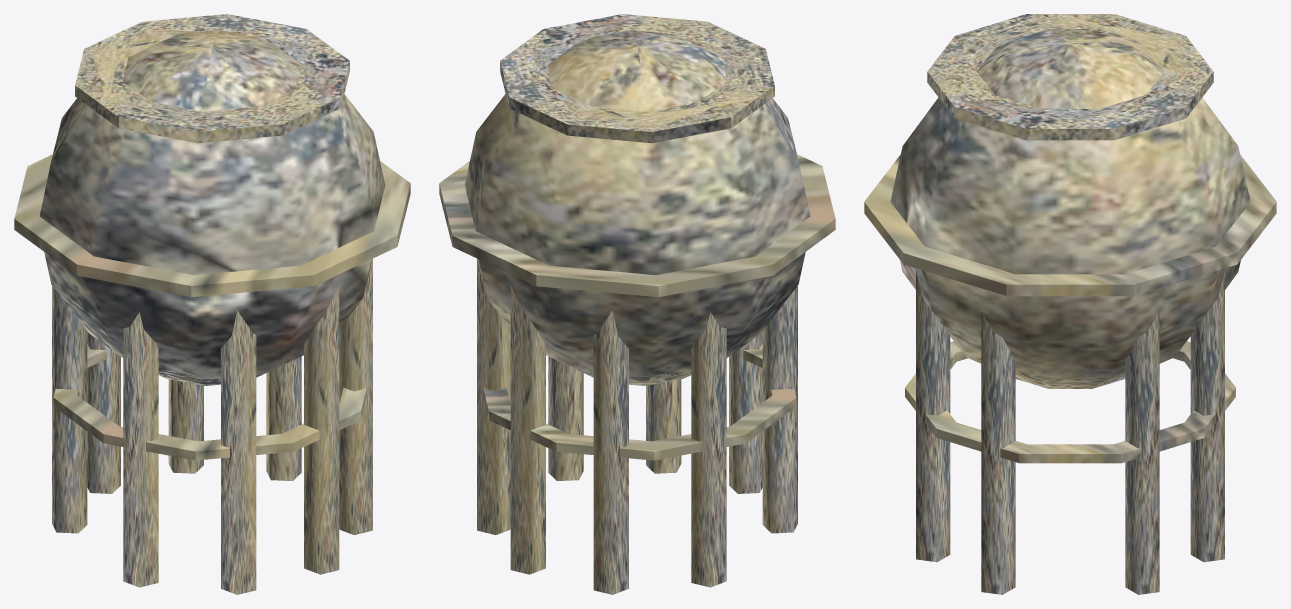
Rendered from OilTanker.glb.
3 views of the same model, side by side, from view 1: azimuth 30°, elevation 25°; view 2: azimuth 150°, elevation 25°; view 3: azimuth 270°, elevation 25° (orthographic).
Parts seen in each view (by area): view 1: Sphere, Cylinder; view 2: Sphere, Cylinder; view 3: Sphere, Cylinder.
Part boxes in pixels (<box>): Sphere: <box>14,14,410,460</box>; Cylinder: <box>52,258,372,594</box>; Sphere: <box>439,14,835,460</box>; Cylinder: <box>477,258,797,594</box>; Sphere: <box>864,14,1276,463</box>; Cylinder: <box>916,270,1224,594</box>.
Size of the model in its own units: 2.16 by 2.97 by 2.27.
2 materials, 2 textured.
